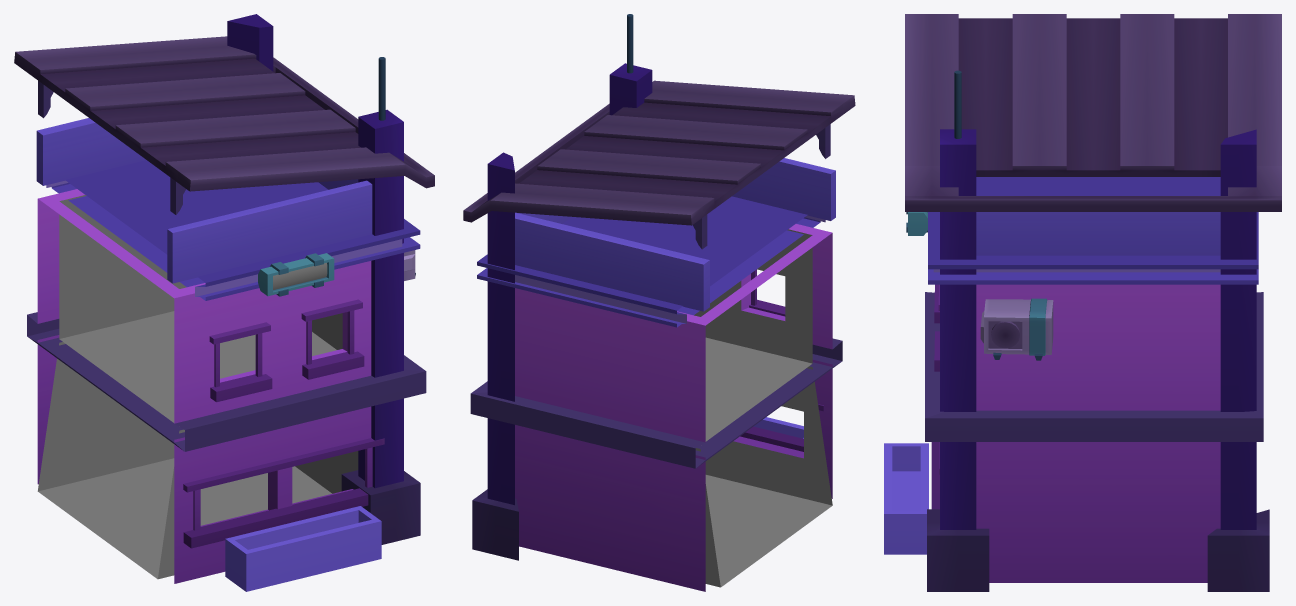
File: scene_building_main_right.obj
The picture shows the model from 3 angles, left to right: view 1: azimuth 30°, elevation 25°; view 2: azimuth 150°, elevation 25°; view 3: azimuth 270°, elevation 25°; orthographic projection. The views are drawn at different scales.
Visible parts, largest first — view 1: building_main_right; view 2: building_main_right; view 3: building_main_right.
Boxes of the visible parts, <box> form: building_main_right: <box>14,14,434,591</box>; building_main_right: <box>463,14,855,591</box>; building_main_right: <box>884,14,1281,591</box>.
Size of the model in its own units: 663 by 1098 by 780.
2 materials, 1 textured.
